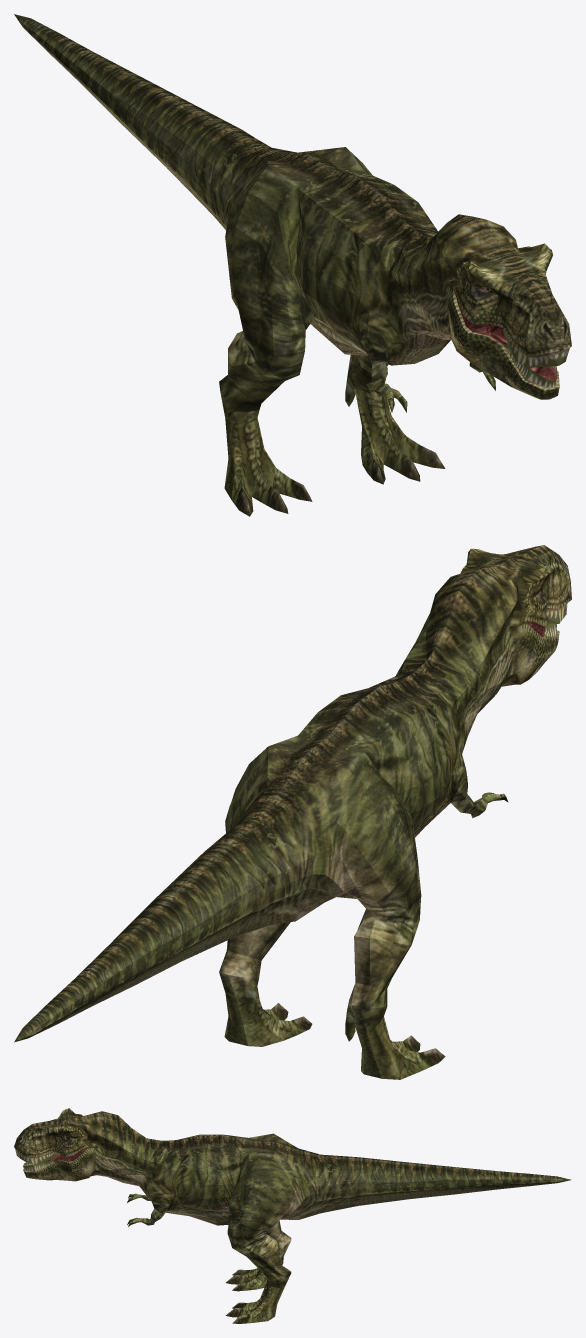
Rendered from trex.obj.
3 renders of one model, top to bottom at view 1: azimuth 30°, elevation 25°; view 2: azimuth 150°, elevation 25°; view 3: azimuth 270°, elevation 25°, orthographic. The views are drawn at different scales.
Parts seen in each view (by area): view 1: trex; view 2: trex; view 3: trex.
Boxes of the visible parts, x1,y1,x2,y2 form: trex: (14,14,571,516); trex: (14,545,571,1079); trex: (14,1108,571,1323).
Size of the model in its own units: 2.94 by 5.17 by 13.96.
1 material, 1 textured.
